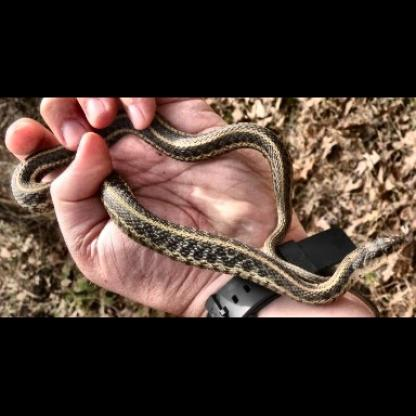Snake: (24, 95, 405, 301)
